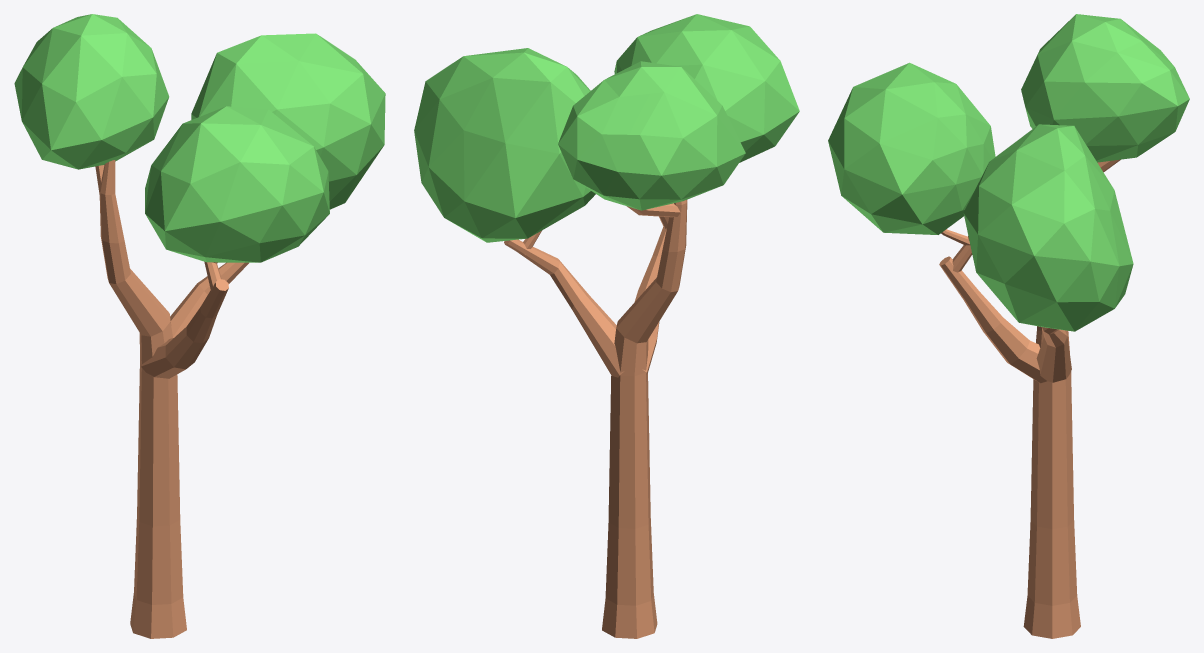
Rendered from Tree_7.fbx.
3 renders of one model, left to right at view 1: azimuth 30°, elevation 25°; view 2: azimuth 150°, elevation 25°; view 3: azimuth 270°, elevation 25°, orthographic. The views are drawn at different scales.
Visible parts, largest first — view 1: Tree_7; view 2: Tree_7; view 3: Tree_7.
Boxes of the visible parts, box(x1,y1,x2,y2) form: Tree_7: box(14, 14, 385, 638); Tree_7: box(414, 14, 799, 638); Tree_7: box(828, 14, 1189, 638).
Size of the model in its own units: 4621 by 8043 by 4500.
